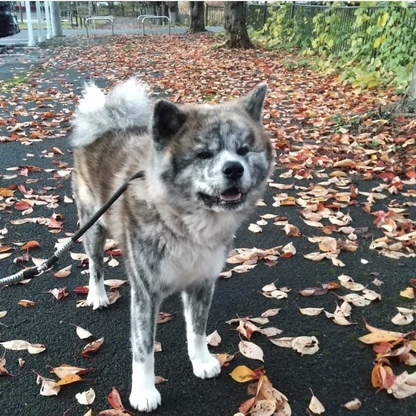akita: (63, 65, 277, 416)
